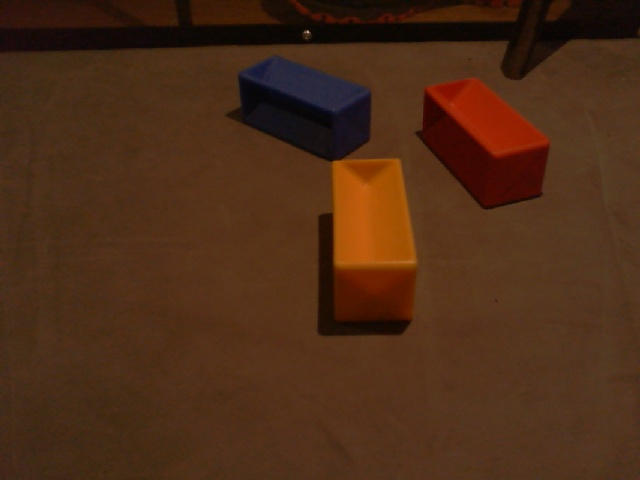BlueSample: (236, 53, 374, 163)
RedSample: (419, 74, 553, 214)
YellowSample: (325, 155, 420, 324)
